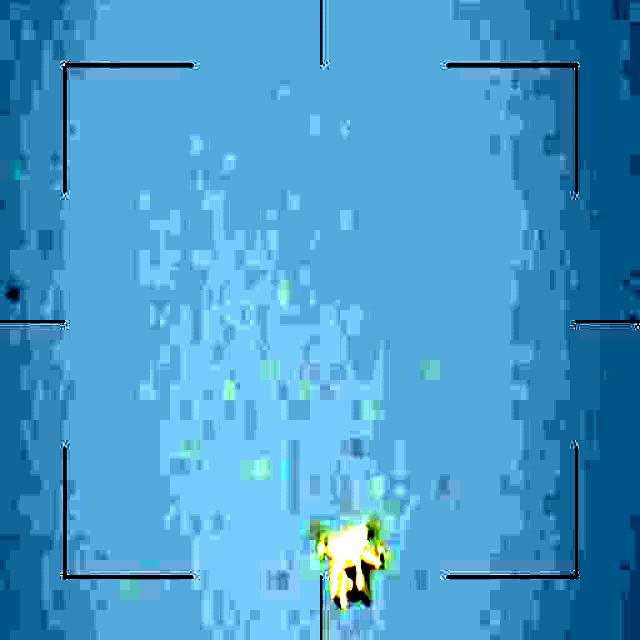bird: (308, 514, 390, 608)
